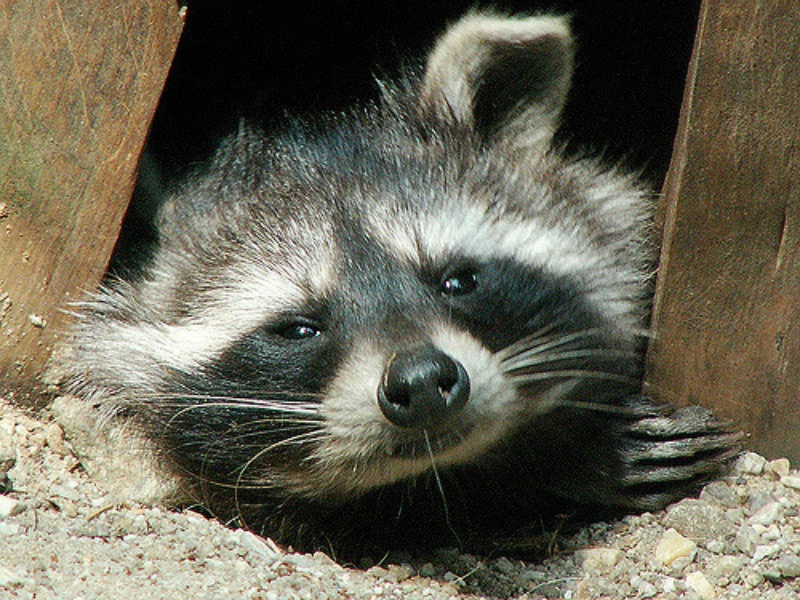raccoon: (43, 7, 747, 542)
